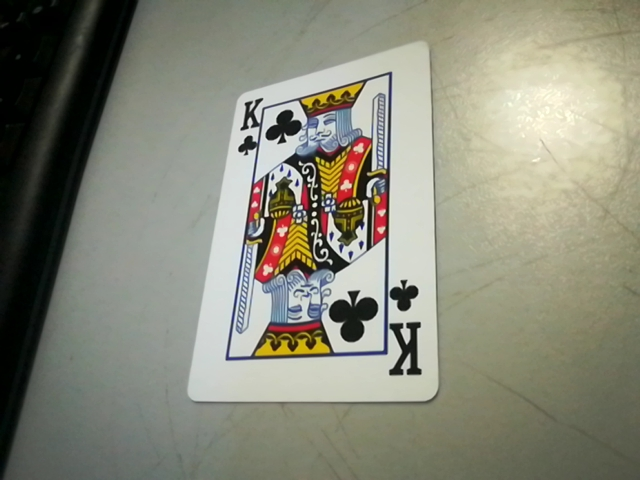mh k: (381, 276, 435, 391), (227, 93, 271, 153)
